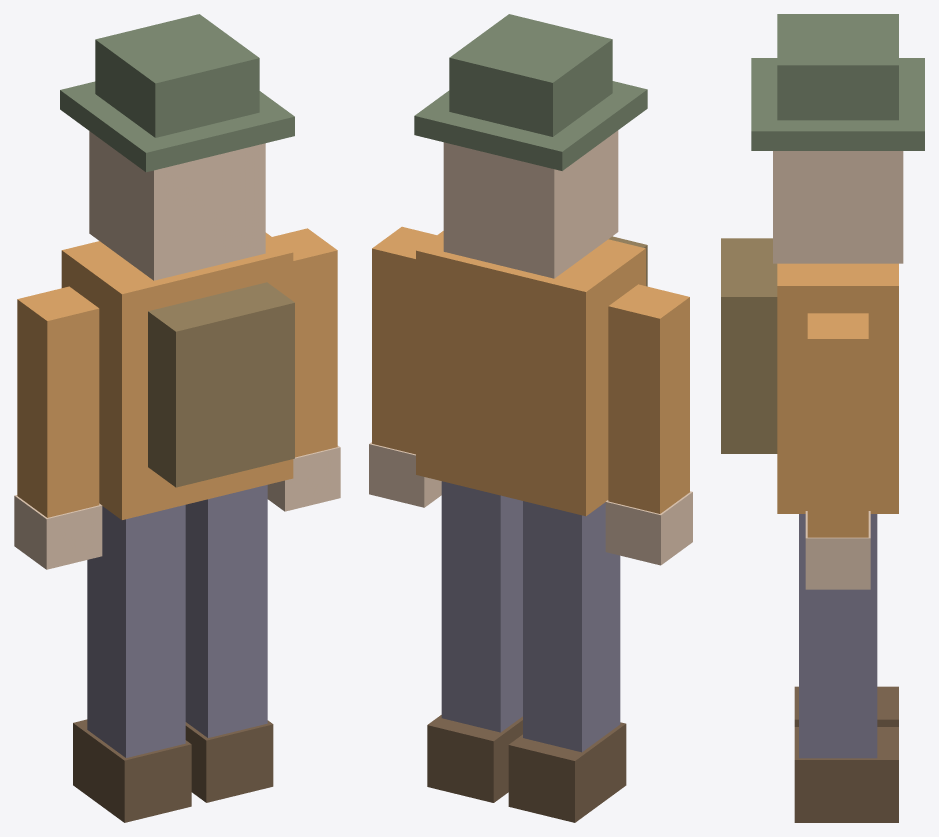
Rendered from crab_hunter.glb.
The picture shows the model from 3 angles, left to right: view 1: azimuth 30°, elevation 25°; view 2: azimuth 150°, elevation 25°; view 3: azimuth 270°, elevation 25°; orthographic projection.
Visible parts, largest first — view 1: Backpack, Torso, LegL, LegR, Head, ArmL, HatTop, ArmR, HatBrim, BootL, BootR, HandL (+1 smaller); view 2: Torso, LegL, LegR, Head, ArmL, HatTop, ArmR, HatBrim, BootL, BootR, HandL, HandR; view 3: Torso, Head, LegR, ArmR, HatTop, Backpack, HatBrim, BootR, HandR, BootL.
Boxes of the visible parts, x1,y1,x2,y2 form: Backpack: (148,282,294,487); Torso: (61,232,293,519); LegL: (87,505,185,757); LegR: (185,485,267,737); Head: (89,131,265,280); ArmL: (17,286,99,517); HatTop: (95,14,259,137); ArmR: (272,228,337,457); HatBrim: (60,81,294,172); BootL: (73,719,191,822); BootR: (185,720,273,802); HandL: (14,495,102,569); Torso: (416,231,645,516); LegL: (523,501,620,752); LegR: (441,481,522,732); Head: (443,130,618,278); ArmL: (608,284,689,513); HatTop: (449,14,612,136); ArmR: (372,226,436,454); HatBrim: (414,81,647,170); BootL: (508,722,626,822); BootR: (427,715,522,802); HandL: (605,491,692,565); HandR: (369,442,441,507); Torso: (777,263,898,513); Head: (773,151,903,263); LegR: (799,514,877,758); ArmR: (807,313,868,537); HatTop: (777,14,898,120); Backpack: (721,238,777,453); HatBrim: (751,58,924,150); BootR: (794,727,898,822); HandR: (805,511,870,589); BootL: (794,686,898,726).
Bounding box in the file's own units: 0.79 × 1.9 × 0.47.
